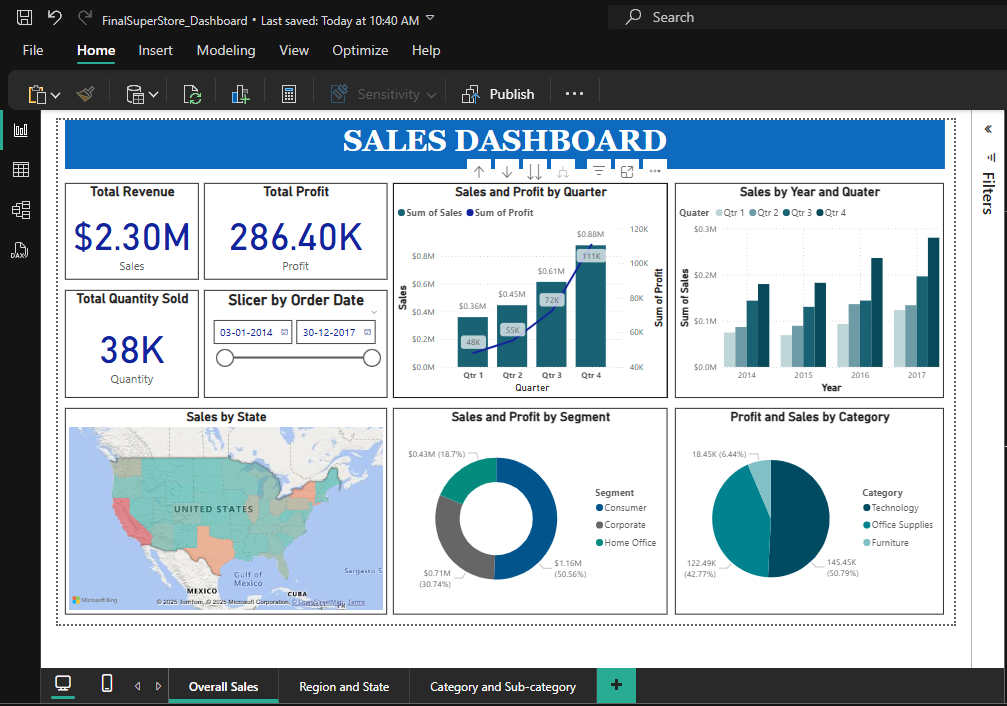

This screenshot's page, from the dashboard's own definition file:
{"tool":"powerbi","page":{"name":"Overall Sales","canvas":[1280,720],"ordinal":0},"visuals":[{"type":"textbox","box":[10.1,0,1257,70],"z":0},{"type":"card","title":"Total Revenue","fields":{"Values":["Sum(Orders.Sales)"]},"box":[10.3,89.6,191,138.1],"z":1000},{"type":"card","title":"Total Quantity Sold","fields":{"Values":["Sum(Orders.Quantity)"]},"box":[10.3,242.4,191,154.3],"z":2000},{"type":"card","title":"Total Profit","fields":{"Values":["Sum(Orders.Profit)"]},"box":[208.7,89.6,261.6,138.1],"z":3000},{"type":"slicer","title":"Slicer by Order Date","fields":{"Values":["Orders.Order Date"]},"box":[208.7,242.4,261.6,154.3],"z":4000},{"type":"lineStackedColumnComboChart","title":"Sales and Profit by Quarter","fields":{"Category":["Orders.Order Date.Variation.Date Hierarchy.Year","Orders.Order Date.Variation.Date Hierarchy.Quarter","Orders.Order Date.Variation.Date Hierarchy.Month","Orders.Order Date.Variation.Date Hierarchy.Day"],"Y":["Sum(Orders.Sales)"],"Y2":["Sum(Orders.Profit)"]},"box":[479,89.6,392.3,307.1],"z":5000},{"type":"clusteredColumnChart","title":"Sales by Year and Quater","fields":{"Category":["Orders.Year"],"Series":["Orders.Quater"],"Y":["Sum(Orders.Sales)"]},"box":[881.6,89.6,383.5,307.1],"z":6000},{"type":"filledMap","title":"Sales by State","fields":{"Category":["Orders.State"]},"box":[10.3,411.4,459.9,295.3],"z":7000},{"type":"donutChart","title":"Sales and Profit by Segment","fields":{"Category":["Orders.Segment"],"Y":["Sum(Orders.Sales)"]},"box":[479,411,392,295],"z":8000},{"type":"pieChart","title":"Profit and Sales by Category","fields":{"Category":["Orders.Category"],"Y":["Sum(Orders.Profit)"]},"box":[882,411,384,295],"z":9000}]}

Visuals, with their boxes on the page's 1280x720 design canvas (x1, y1, x2, y2). These are canvas units, not pixel positions in the 1007x706 screenshot, which may show the page scaled, cropped or inside an application window:
textbox: {"x1": 10, "y1": 0, "x2": 1267, "y2": 70}
"Total Revenue" card: {"x1": 10, "y1": 90, "x2": 201, "y2": 228}
"Total Quantity Sold" card: {"x1": 10, "y1": 242, "x2": 201, "y2": 397}
"Total Profit" card: {"x1": 209, "y1": 90, "x2": 470, "y2": 228}
"Slicer by Order Date" slicer: {"x1": 209, "y1": 242, "x2": 470, "y2": 397}
"Sales and Profit by Quarter" lineStackedColumnComboChart: {"x1": 479, "y1": 90, "x2": 871, "y2": 397}
"Sales by Year and Quater" clusteredColumnChart: {"x1": 882, "y1": 90, "x2": 1265, "y2": 397}
"Sales by State" filledMap: {"x1": 10, "y1": 411, "x2": 470, "y2": 707}
"Sales and Profit by Segment" donutChart: {"x1": 479, "y1": 411, "x2": 871, "y2": 706}
"Profit and Sales by Category" pieChart: {"x1": 882, "y1": 411, "x2": 1266, "y2": 706}
